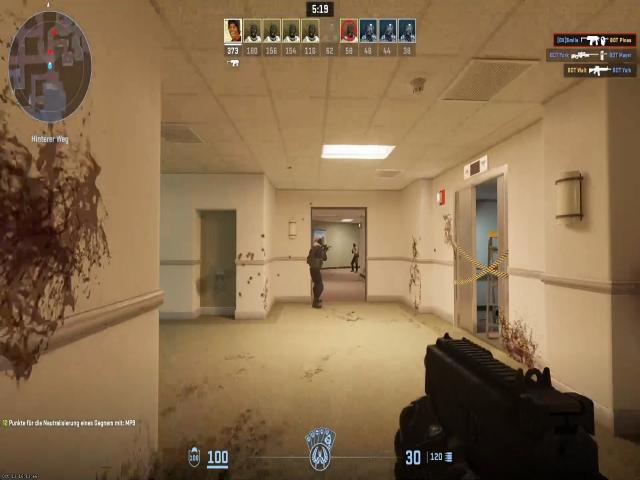CT: (309, 236, 327, 294)
CT-Head: (315, 236, 326, 250)
T: (348, 240, 359, 270)
T-Head: (350, 242, 358, 252)
